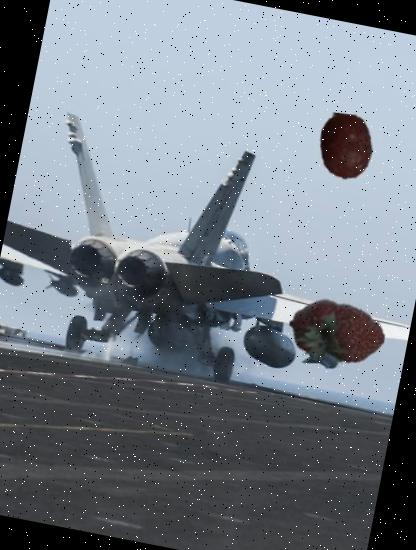Grape: (308, 108, 384, 184)
Strawberry: (280, 278, 393, 392)
